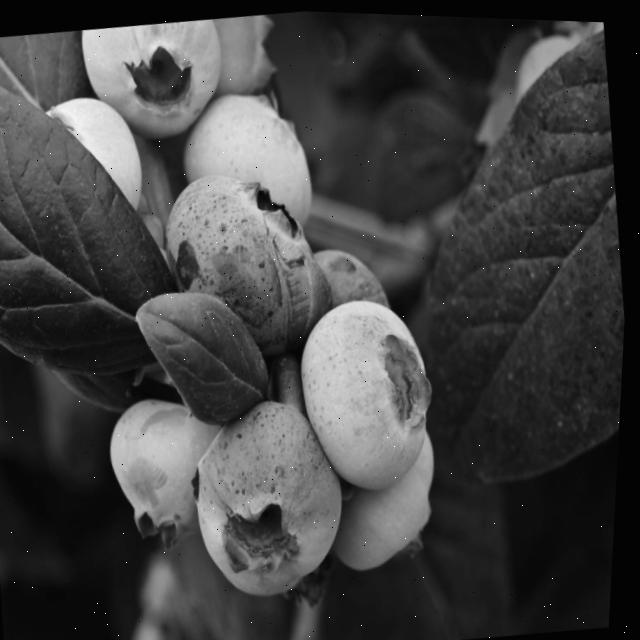RipeBlueBerry: (157, 160, 328, 361)
Semi-RipeBlueBerry: (186, 387, 357, 601), (293, 287, 447, 493)
UnripeBlueBerry: (173, 83, 324, 233), (103, 391, 234, 549), (325, 424, 453, 575), (73, 13, 228, 137)
